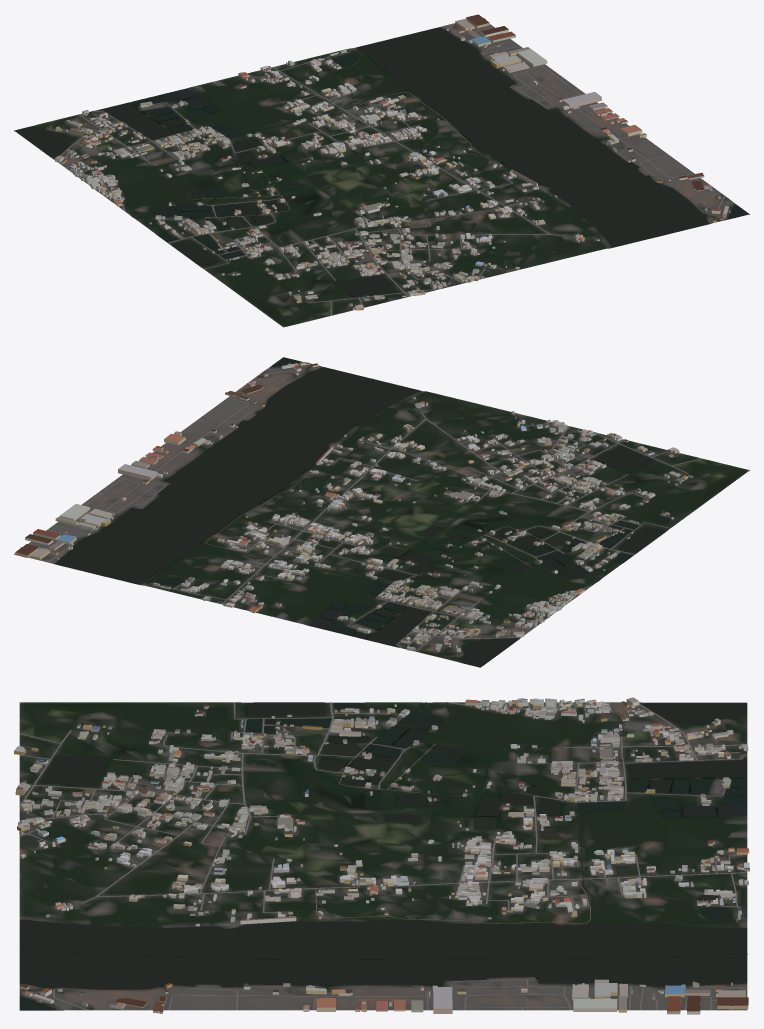
3 views of the same model, one above another, from view 1: azimuth 30°, elevation 25°; view 2: azimuth 150°, elevation 25°; view 3: azimuth 270°, elevation 25° (orthographic). The views are drawn at different scales.
Parts seen in each view (by area): view 1: ground, water, buildings, roads; view 2: ground, water, buildings, roads; view 3: ground, water, buildings, roads.
Part boxes in pixels (x1,y1,x2,y2): ground: (14,23,749,327); water: (15,27,748,297); buildings: (55,14,730,310); roads: (60,25,724,327); ground: (14,361,749,667); water: (55,357,670,666); buildings: (15,362,692,652); roads: (30,370,749,651); ground: (19,702,747,1010); water: (19,702,747,1009); buildings: (14,697,749,1014); roads: (19,702,747,1010).
Size of the model in its own units: 1423 by 15.57 by 1417.
